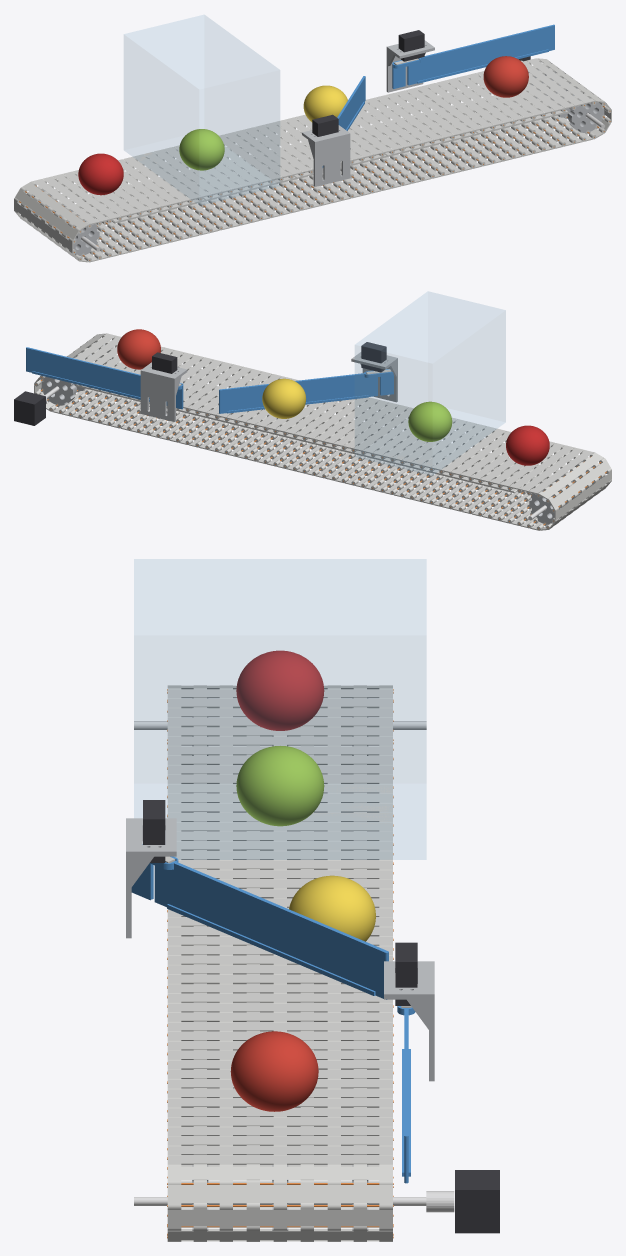
Rendered from clasificador_manzanas.glb.
3 views of the same model, one above another, from view 1: azimuth 30°, elevation 25°; view 2: azimuth 150°, elevation 25°; view 3: azimuth 270°, elevation 25° (orthographic). The views are drawn at different scales.
Visible parts, largest first — view 1: Túnel de cámara (volumen reservado), Paleta 2, Soporte servo 1, Manzana roja, Manzana verde, Manzana roja 2, Manzana amarilla, Eslabon_109, Eslabon_110, Soporte servo 2, Paleta 1, Piñón motriz 3 (+88 smaller); view 2: Túnel de cámara (volumen reservado), Paleta 1, Paleta 2, Soporte servo 2, Manzana verde, Manzana roja, Manzana amarilla, Manzana roja 2, Motor NEMA 17, Eslabon_109, Eslabon_110, Soporte servo 1 (+65 smaller); view 3: Túnel de cámara (volumen reservado), Paleta 1, Manzana roja, Manzana roja 2, Manzana verde, Eslabon_052, Eslabon_053, Manzana amarilla, Eslabon_051, Motor NEMA 17, Eslabon_054, Eslabon_050 (+49 smaller).
Part boxes in pixels (left/top/right/bottom): Túnel de cámara (volumen reservado): left=124, top=15, right=279, bottom=205; Paleta 2: left=392, top=24, right=554, bottom=88; Soporte servo 1: left=302, top=125, right=350, bottom=186; Manzana roja: left=78, top=153, right=123, bottom=195; Manzana verde: left=179, top=129, right=224, bottom=170; Manzana roja 2: left=483, top=56, right=528, bottom=97; Manzana amarilla: left=303, top=85, right=347, bottom=122; Eslabon_109: left=15, top=187, right=82, bottom=239; Eslabon_110: left=22, top=181, right=91, bottom=229; Soporte servo 2: left=386, top=40, right=434, bottom=92; Paleta 1: left=322, top=76, right=365, bottom=167; Piñón motriz 3: left=567, top=97, right=604, bottom=132; Túnel de cámara (volumen reservado): left=355, top=291, right=505, bottom=475; Paleta 1: left=219, top=369, right=393, bottom=413; Paleta 2: left=26, top=347, right=183, bottom=409; Soporte servo 2: left=140, top=362, right=187, bottom=421; Manzana verde: left=408, top=401, right=452, bottom=441; Manzana roja: left=506, top=425, right=549, bottom=465; Manzana amarilla: left=262, top=378, right=306, bottom=418; Manzana roja 2: left=117, top=329, right=160, bottom=369; Motor NEMA 17: left=14, top=391, right=45, bottom=425; Eslabon_109: left=546, top=458, right=610, bottom=508; Eslabon_110: left=536, top=452, right=603, bottom=498; Soporte servo 1: left=351, top=352, right=397, bottom=402; Túnel de cámara (volumen reservado): left=134, top=559, right=426, bottom=859; Paleta 1: left=131, top=844, right=388, bottom=999; Manzana roja: left=236, top=650, right=324, bottom=730; Manzana roja 2: left=230, top=1031, right=318, bottom=1111; Manzana verde: left=236, top=746, right=324, bottom=826; Eslabon_052: left=167, top=1179, right=392, bottom=1209; Eslabon_053: left=167, top=1203, right=392, bottom=1230; Manzana amarilla: left=289, top=875, right=375, bottom=941; Eslabon_051: left=167, top=1164, right=392, bottom=1184; Motor NEMA 17: left=455, top=1170, right=499, bottom=1233; Eslabon_054: left=167, top=1226, right=392, bottom=1241; Eslabon_050: left=167, top=1154, right=392, bottom=1166.
Size of what is drawn, in the model's own units: 1.08 by 0.2927 by 0.332.
